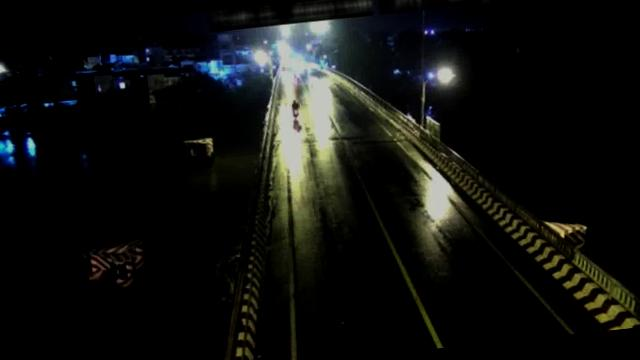Bike: (288, 99, 301, 120)
